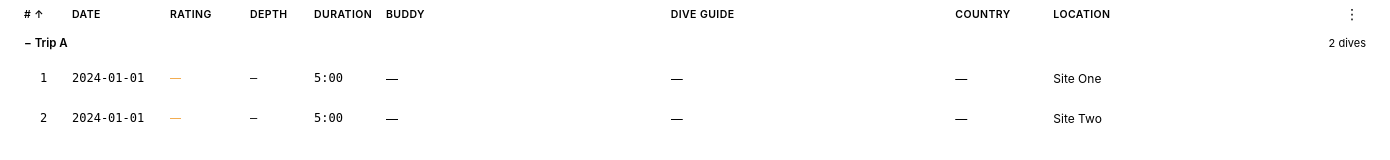
Test: DiveList — sorting and columns › sorting by non-nr key renders flat list — trip header disappears
Check: the text "− Trip A" is shown, box [24,36,68,50]
Click the button "Depth" at (278, 14), box [250,8,306,20]
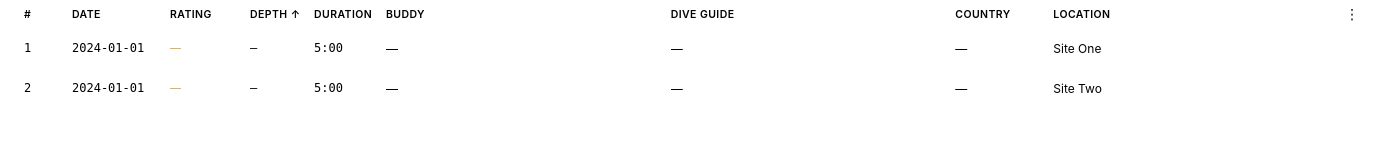
Check: the text "Site One" is shown, box [1053,40,1101,56]
Check: the button "Trip A" is gone
